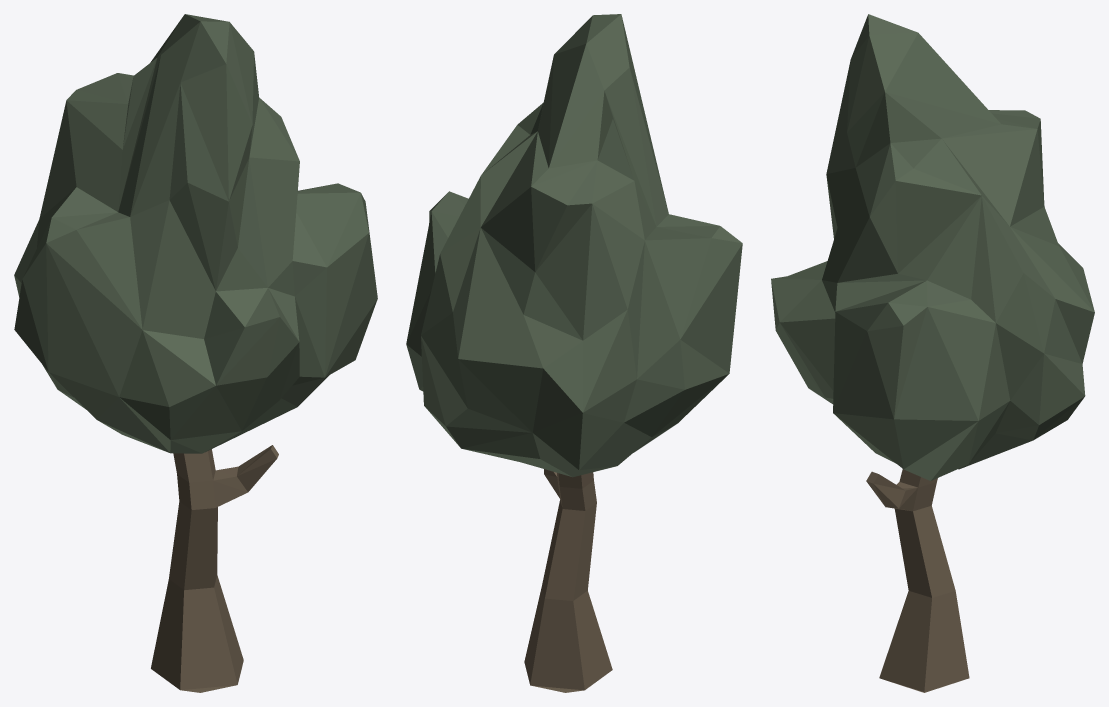
File: SM_Generic_Tree_03.glb
3 renders of one model, left to right at view 1: azimuth 30°, elevation 25°; view 2: azimuth 150°, elevation 25°; view 3: azimuth 270°, elevation 25°, orthographic. The views are drawn at different scales.
Visible parts, largest first — view 1: SM_Generic_Tree_03; view 2: SM_Generic_Tree_03; view 3: SM_Generic_Tree_03.
Boxes of the visible parts, x1,y1,x2,y2 form: SM_Generic_Tree_03: [14, 14, 377, 692]; SM_Generic_Tree_03: [406, 14, 742, 692]; SM_Generic_Tree_03: [771, 14, 1094, 692].
Size of the model in its own units: 1.73 by 3.49 by 1.54.
Materials: 1 (1 with a texture image).
